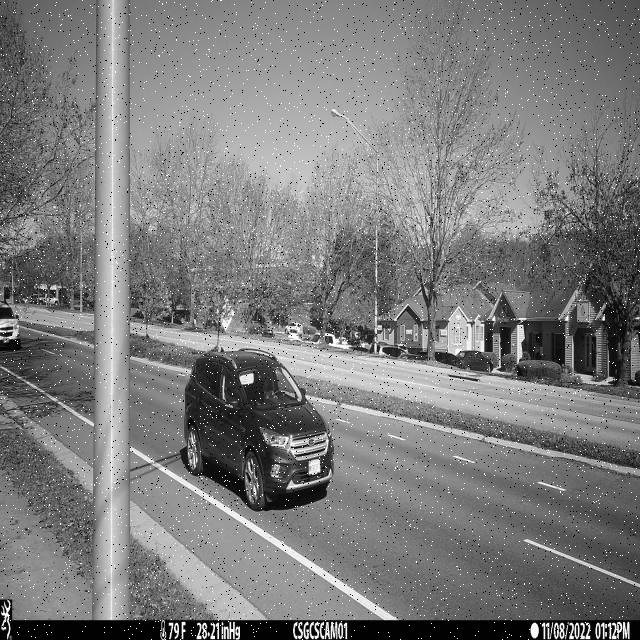SUV: (184, 345, 334, 511)
